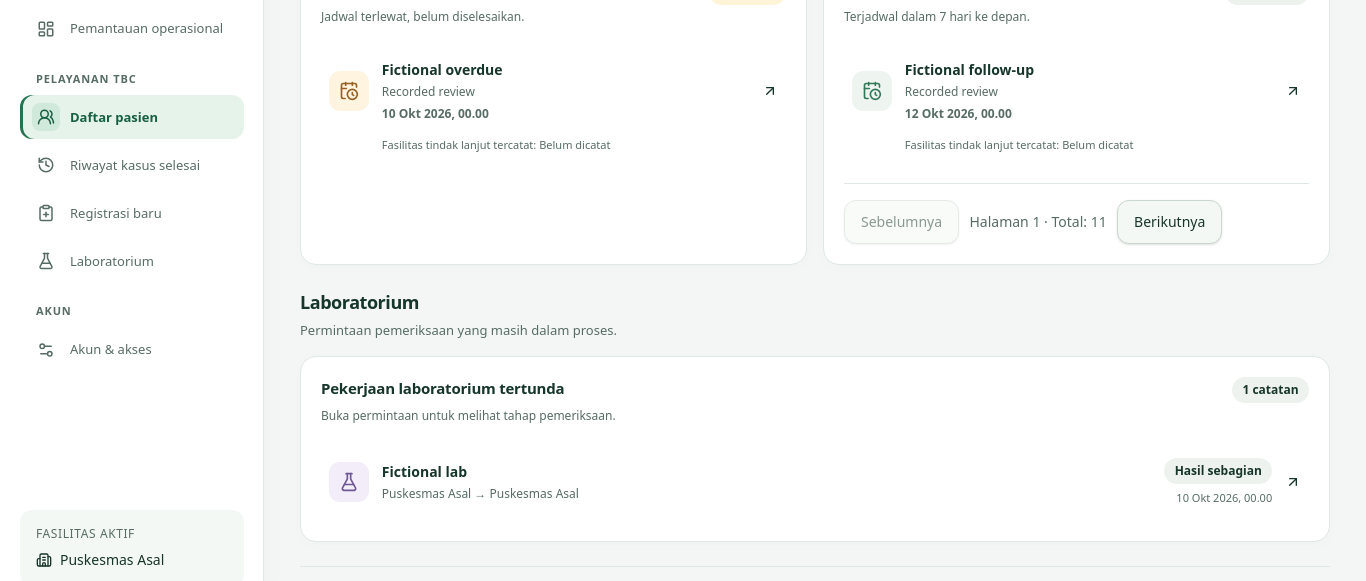
Test: paginates queues independently and keeps totals
(page scrolled)
Step 1. Click the button "Berikutnya" → (1170, 222), box [1117,200,1222,244]
(page scrolled)
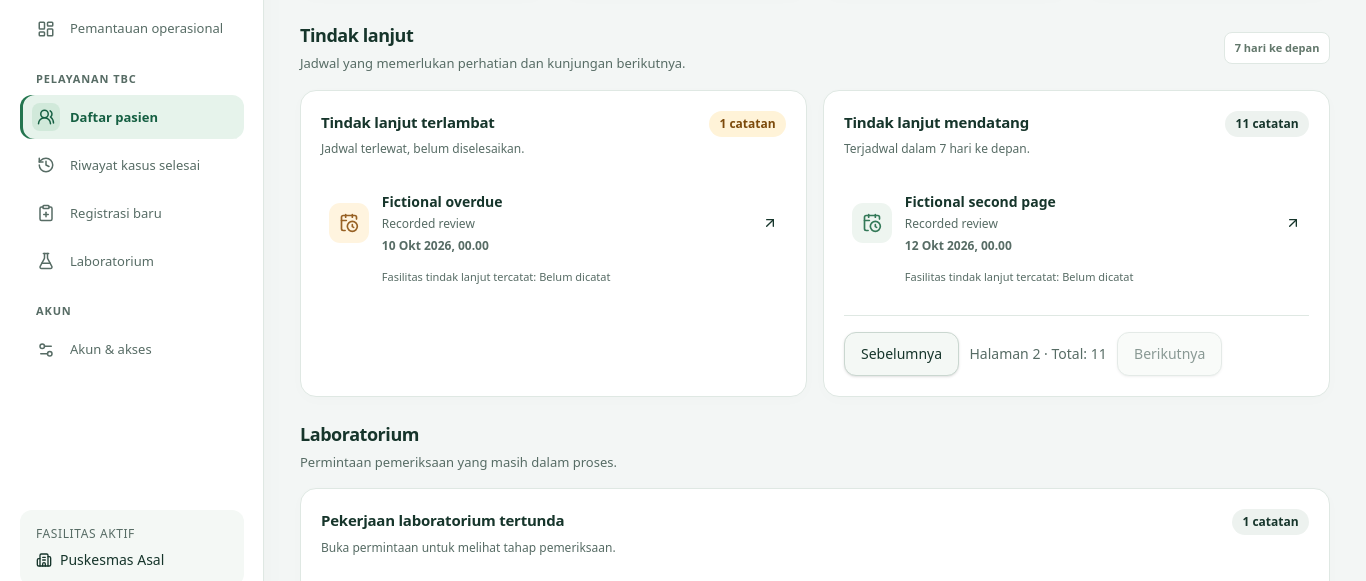
Expected: the link "Fictional overdue Recorded review 10 Okt 2026, 00.00" is shown, [321,177,786,269]
Expected: the link "Fictional second page Recorded review 12 Okt 2026, 00.00" is shown, [844,177,1309,269]
Expected: the button "Berikutnya" is disabled, [1117,332,1222,376]
